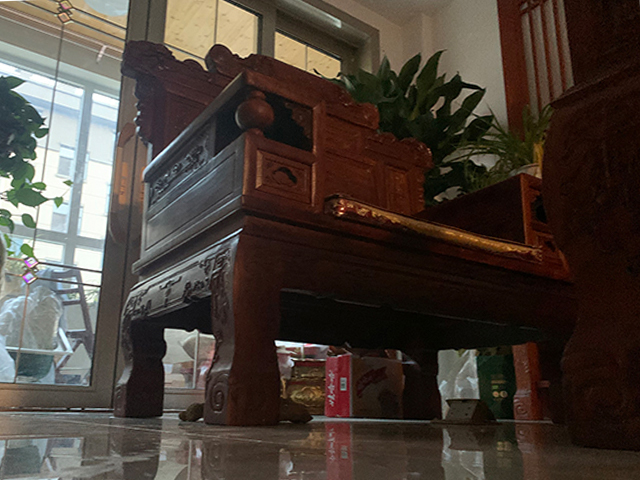sofa: (112, 39, 584, 428)
